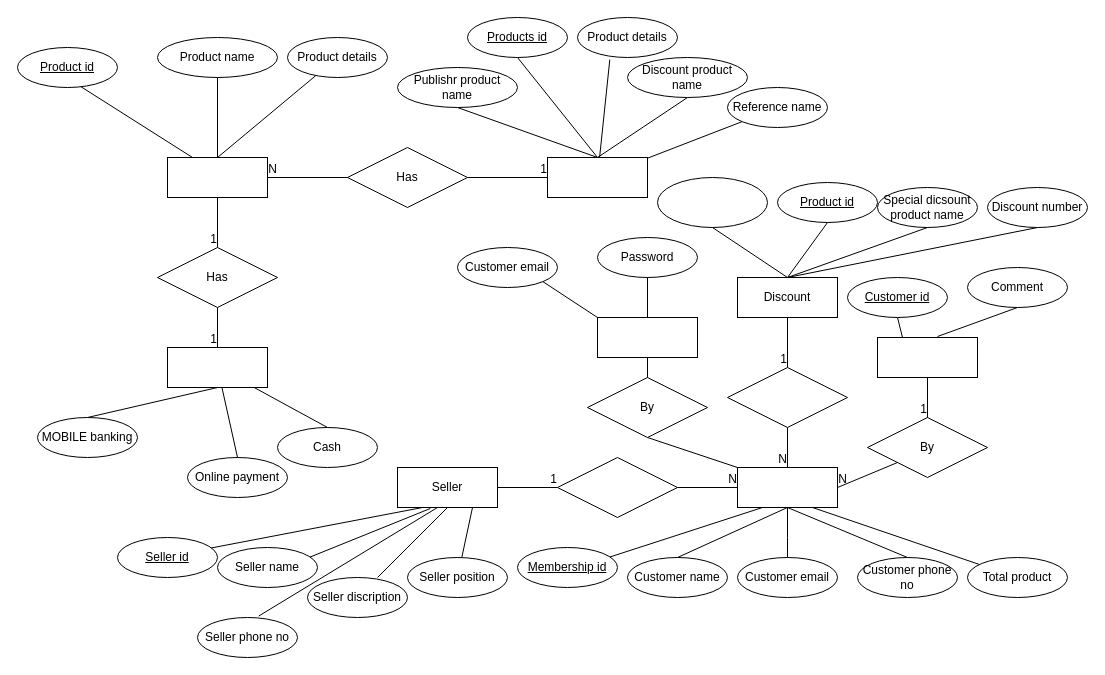
The diagram is 1105 pixels wide and 675 high, and some of its shapes have lost their labels. The shapes that lost their labels are listed below. From the top down, each one's centre as x and y in pixels, then its label:
At (217,177): "Products".
At (597,177): "Publishers".
At (712,202): "Discount products name".
At (647,337): "Registration".
At (927,357): "Review".
At (217,367): "Payment".
At (787,397): "Uses".
At (617,487): "Works for".
At (787,487): "Customer".
